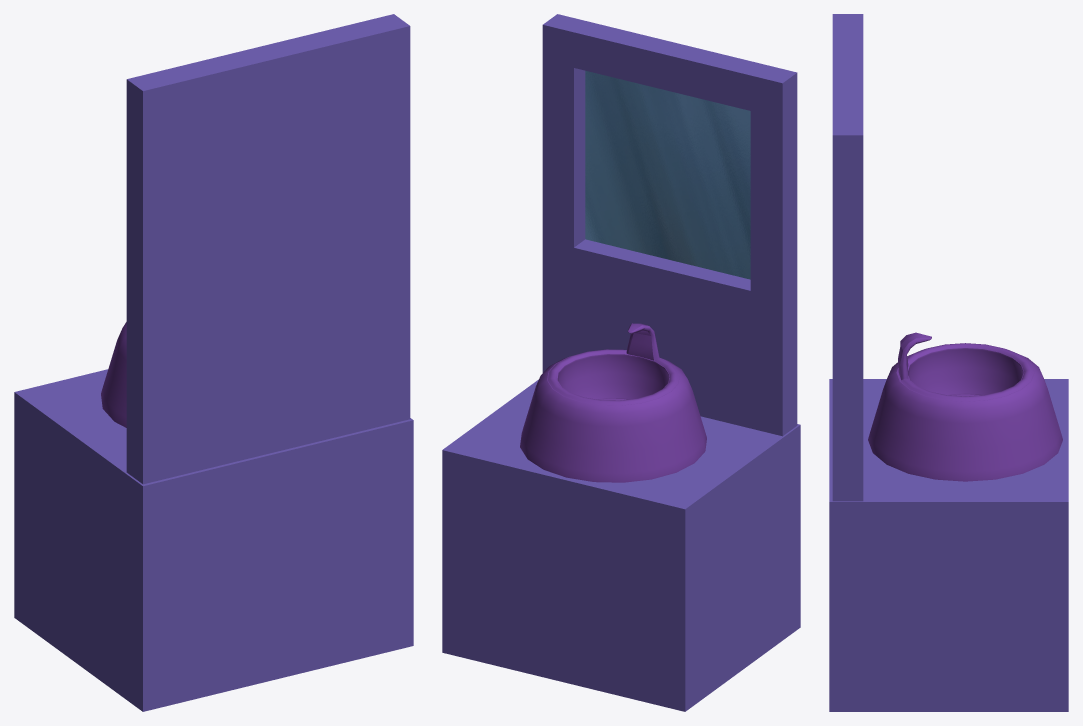
Rendered from Wash Basin And Mirror FBX 1.fbx.
The picture shows the model from 3 angles, left to right: view 1: azimuth 30°, elevation 25°; view 2: azimuth 150°, elevation 25°; view 3: azimuth 270°, elevation 25°; orthographic projection. The views are drawn at different scales.
Parts seen in each view (by area): view 1: polySurface8; view 2: polySurface8; view 3: polySurface8.
Part boxes in pixels (x1,y1,x2,y2): polySurface8: (14,14,413,711); polySurface8: (442,14,800,711); polySurface8: (829,14,1068,711).
Size of the model in its own units: 13.69 by 29.91 by 11.27.
Materials: 3 (1 with a texture image).
